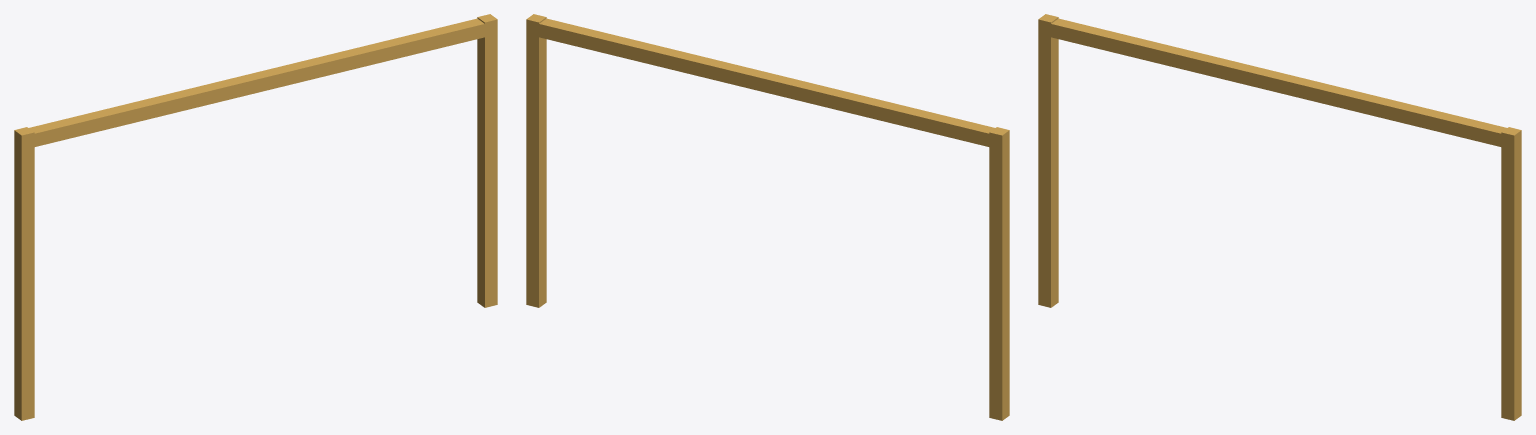
Rendered from railway-0-2.glb.
3 renders of one model, left to right at view 1: azimuth 30°, elevation 25°; view 2: azimuth 150°, elevation 25°; view 3: azimuth 330°, elevation 25°, orthographic.
Visible parts, largest first — view 1: railway-0-2; view 2: railway-0-2; view 3: railway-0-2.
Boxes of the visible parts, left/top/right/bottom form: railway-0-2: left=14, top=14, right=497, bottom=420; railway-0-2: left=526, top=14, right=1009, bottom=420; railway-0-2: left=1038, top=14, right=1521, bottom=420.
Size of the model in its own units: 18.5 by 10.6 by 0.5.
